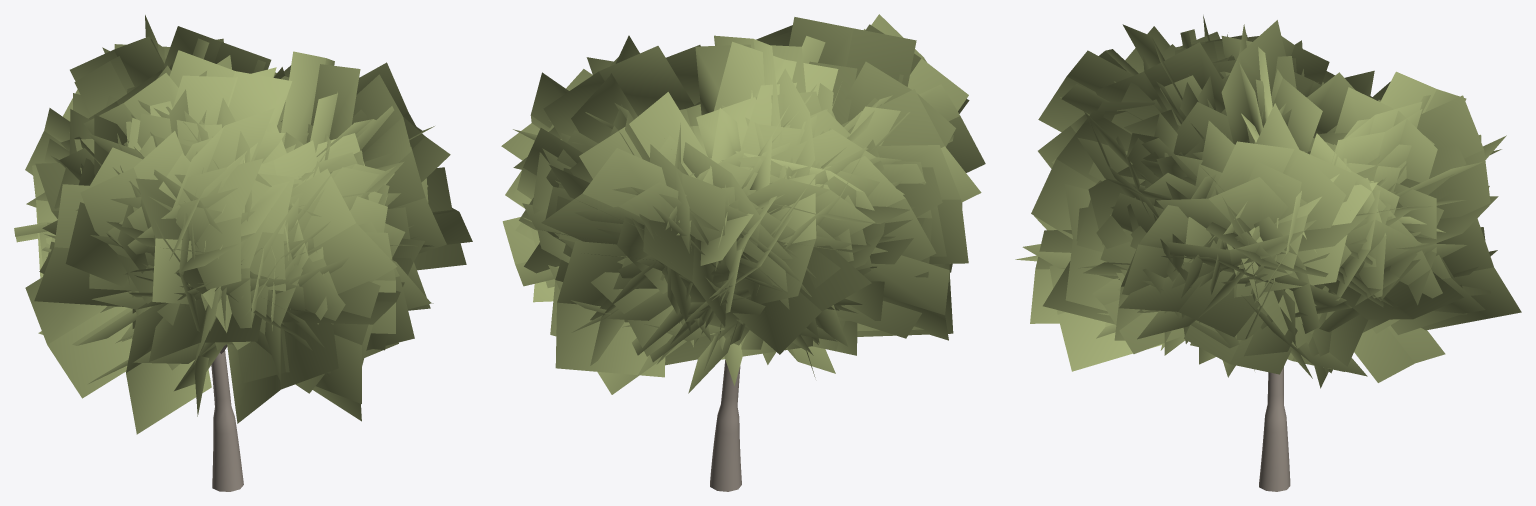
File: StreetTree_B.fbx
3 views of the same model, side by side, from view 1: azimuth 30°, elevation 25°; view 2: azimuth 150°, elevation 25°; view 3: azimuth 270°, elevation 25° (orthographic).
Parts seen in each view (by area): view 1: StreetTree_B; view 2: StreetTree_B; view 3: StreetTree_B.
Part boxes in pixels (box(x1,y1,x2,y2)): StreetTree_B: box(14, 15, 472, 491); StreetTree_B: box(501, 14, 985, 491); StreetTree_B: box(1015, 15, 1521, 491).
Size of the model in its own units: 8.11 by 8.32 by 8.63.
